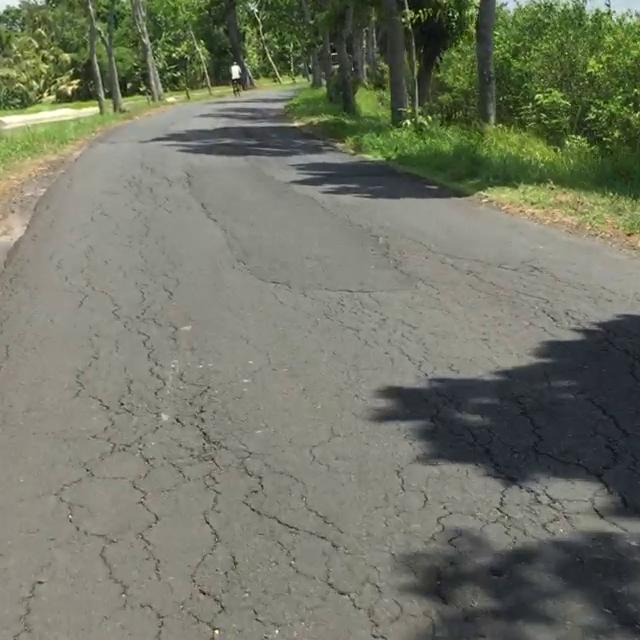retak_kulit_buaya: (44, 281, 321, 640), (357, 374, 617, 567), (250, 534, 535, 640)
